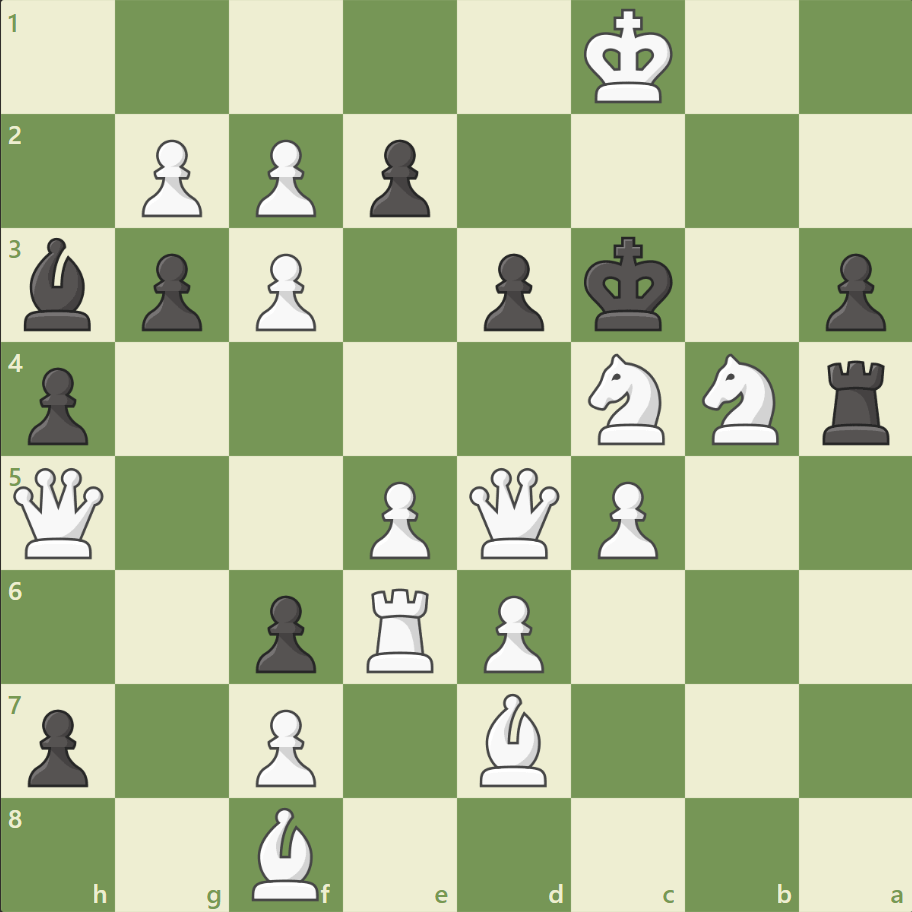B: (244, 801, 328, 904), (471, 687, 555, 790)
K: (579, 4, 679, 112)
N: (692, 348, 789, 450), (579, 348, 676, 450)
P: (247, 700, 322, 791), (474, 586, 549, 677), (247, 246, 322, 337), (247, 132, 322, 223), (133, 132, 208, 223), (588, 473, 662, 564), (361, 473, 435, 564)
Q: (464, 463, 563, 562), (10, 463, 109, 562)
R: (360, 579, 442, 676)
b: (17, 233, 101, 336)
k: (579, 231, 679, 339)
p: (20, 700, 95, 791), (247, 586, 322, 677), (20, 359, 95, 450), (474, 246, 549, 337), (133, 246, 208, 337), (815, 246, 889, 337), (361, 132, 435, 223)
r: (814, 352, 897, 449)
